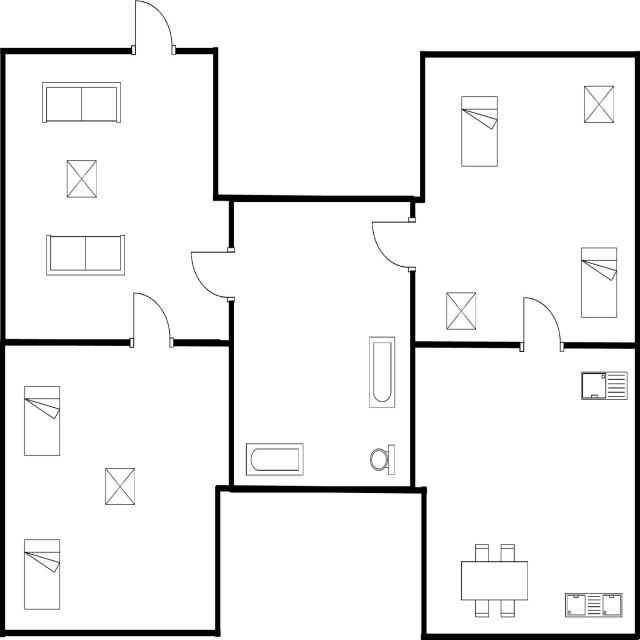bed: (576, 242, 621, 323), (458, 93, 502, 173), (20, 382, 63, 460), (20, 534, 63, 612)
coffee_table: (100, 462, 139, 510), (579, 82, 618, 130), (443, 286, 479, 335), (62, 157, 100, 201)
dining_table: (456, 541, 532, 620)
large_sink: (366, 439, 399, 478)
large_sofa: (38, 76, 125, 128), (42, 231, 128, 279)
sink: (576, 368, 630, 406)
tub: (240, 435, 308, 480), (365, 331, 399, 415)
twin_sink: (560, 587, 625, 623)
